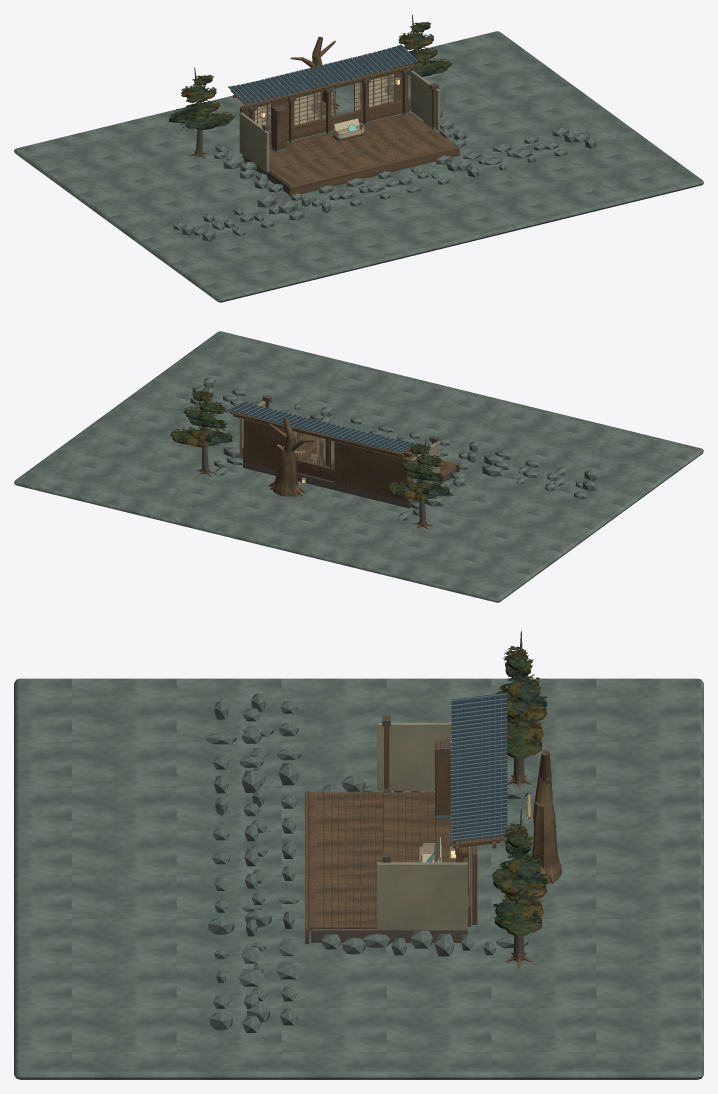
File: night04_mirror.glb
3 views of the same model, one above another, from view 1: azimuth 30°, elevation 25°; view 2: azimuth 150°, elevation 25°; view 3: azimuth 270°, elevation 25° (orthographic). The views are drawn at different scales.
Parts seen in each view (by area): view 1: Continuous_original_stone_ground, Aged_cedar_floor_original_planks, Grounded_natural_foreground_rocks, Curved_original_roof, Approach_leaf_cedar_-1, Foundation_cedar_fascia, Barrel_tiles_and_round_ends, Approach_leaf_cedar_1, Cedar_back_dado, Side_wall_plaster, Side_wall_plaster.001, Side_moss_rockbank_-1 (+6 smaller); view 2: Continuous_original_stone_ground, Grounded_natural_foreground_rocks, Deep_rear_wall, Approach_leaf_cedar_-1, Approach_leaf_cedar_1, Curved_original_roof, Deep_rear_wall.001, Hollow_tree_bark_roots_and_branches, Barrel_tiles_and_round_ends, Foundation_cedar_fascia, Side_moss_rockbank_-1, Aged_cedar_floor_original_planks (+3 smaller); view 3: Continuous_original_stone_ground, Aged_cedar_floor_original_planks, Grounded_natural_foreground_rocks, Curved_original_roof, Side_wall_plaster.001, Approach_leaf_cedar_1, Barrel_tiles_and_round_ends, Approach_leaf_cedar_-1, Side_wall_plaster, Foundation_cedar_fascia, Side_moss_rockbank_1, Hollow_tree_bark_roots_and_branches (+2 smaller).
Part boxes in pixels (left/top/right/bottom): Continuous_original_stone_ground: left=14, top=31, right=703, bottom=302; Aged_cedar_floor_original_planks: left=269, top=112, right=456, bottom=186; Grounded_natural_foreground_rocks: left=173, top=128, right=596, bottom=241; Curved_original_roof: left=228, top=44, right=417, bottom=102; Approach_leaf_cedar_-1: left=168, top=67, right=234, bottom=159; Foundation_cedar_fascia: left=243, top=146, right=459, bottom=196; Barrel_tiles_and_round_ends: left=229, top=44, right=417, bottom=103; Approach_leaf_cedar_1: left=393, top=14, right=452, bottom=102; Cedar_back_dado: left=269, top=98, right=409, bottom=145; Side_wall_plaster: left=239, top=112, right=269, bottom=172; Side_wall_plaster.001: left=410, top=70, right=440, bottom=130; Side_moss_rockbank_-1: left=214, top=143, right=283, bottom=192; Continuous_original_stone_ground: left=14, top=331, right=703, bottom=602; Grounded_natural_foreground_rocks: left=190, top=377, right=597, bottom=498; Deep_rear_wall: left=334, top=441, right=408, bottom=501; Approach_leaf_cedar_-1: left=388, top=439, right=450, bottom=529; Approach_leaf_cedar_1: left=170, top=385, right=232, bottom=476; Curved_original_roof: left=228, top=402, right=417, bottom=451; Deep_rear_wall.001: left=243, top=419, right=285, bottom=469; Hollow_tree_bark_roots_and_branches: left=269, top=418, right=314, bottom=496; Barrel_tiles_and_round_ends: left=229, top=400, right=417, bottom=451; Foundation_cedar_fascia: left=243, top=453, right=459, bottom=508; Side_moss_rockbank_-1: left=398, top=471, right=466, bottom=521; Aged_cedar_floor_original_planks: left=298, top=432, right=456, bottom=499; Continuous_original_stone_ground: left=14, top=678, right=703, bottom=1079; Aged_cedar_floor_original_planks: left=308, top=792, right=464, bottom=930; Grounded_natural_foreground_rocks: left=206, top=693, right=301, bottom=1032; Curved_original_roof: left=451, top=692, right=507, bottom=842; Side_wall_plaster.001: left=377, top=862, right=467, bottom=930; Approach_leaf_cedar_1: left=491, top=808, right=547, bottom=967; Barrel_tiles_and_round_ends: left=450, top=693, right=507, bottom=841; Approach_leaf_cedar_-1: left=496, top=631, right=547, bottom=787; Side_wall_plaster: left=377, top=722, right=451, bottom=790; Foundation_cedar_fascia: left=305, top=791, right=467, bottom=943; Side_moss_rockbank_1: left=321, top=930, right=528, bottom=956; Hollow_tree_bark_roots_and_branches: left=530, top=750, right=561, bottom=884.
Bounding box in the file's own units: 34 × 6.32 × 25.
Materials: 24 (14 with a texture image).
